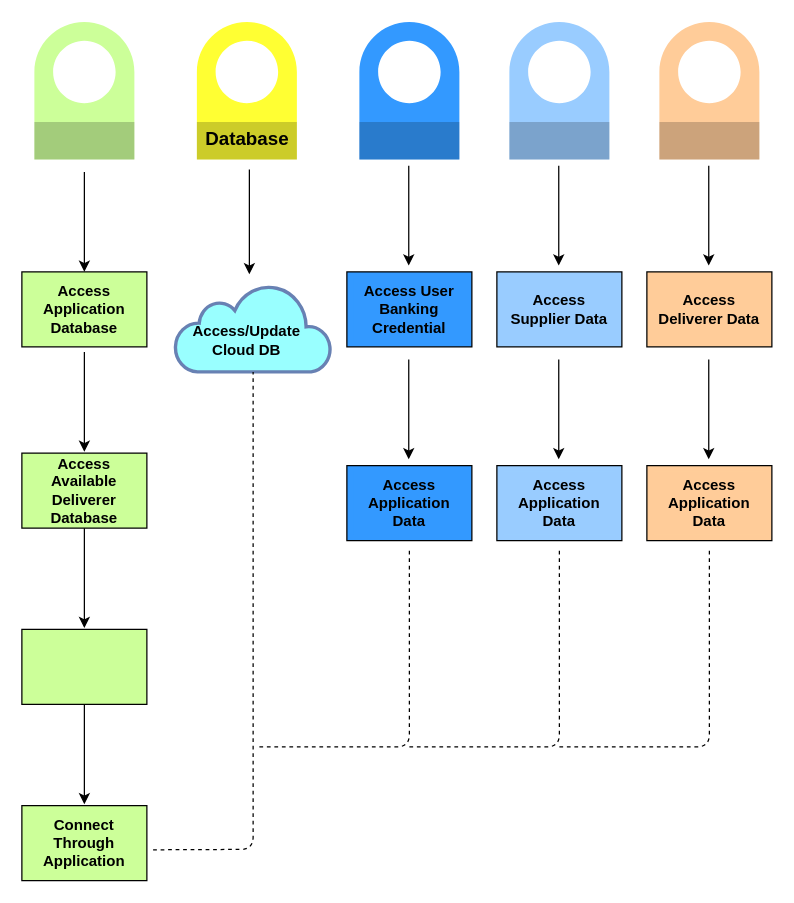
The diagram is 794 pixels wide and 903 high, and some of its shapes have lost their labels. Each missing label, with the centre of its shape:
Access Banking Credential: point (84, 666)
Bank: point (409, 90)
Deliverer: point (709, 90)
Supplier: point (559, 90)
User: point (84, 90)
